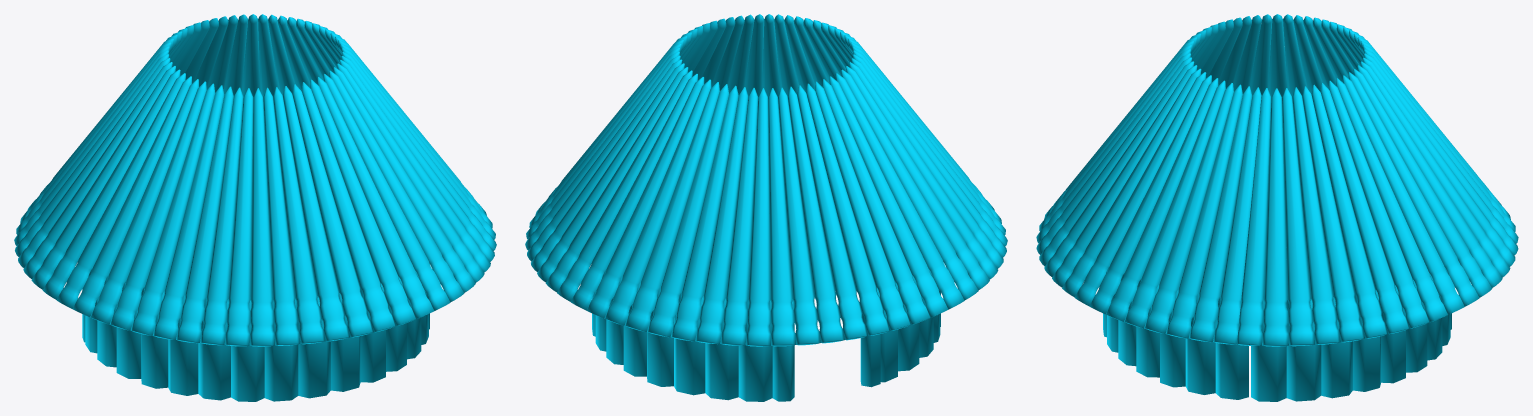
Rendered from HutWithoutRoof.fbx.
3 renders of one model, left to right at view 1: azimuth 30°, elevation 25°; view 2: azimuth 150°, elevation 25°; view 3: azimuth 270°, elevation 25°, orthographic.
Visible parts, largest first — view 1: Hut_low; view 2: Hut_low; view 3: Hut_low.
Part boxes in pixels (left/top/right/bottom): Hut_low: left=14, top=14, right=496, bottom=401; Hut_low: left=525, top=14, right=1007, bottom=401; Hut_low: left=1036, top=14, right=1518, bottom=401.
Bounding box in the file's own units: 16858 × 10676 × 16834.
